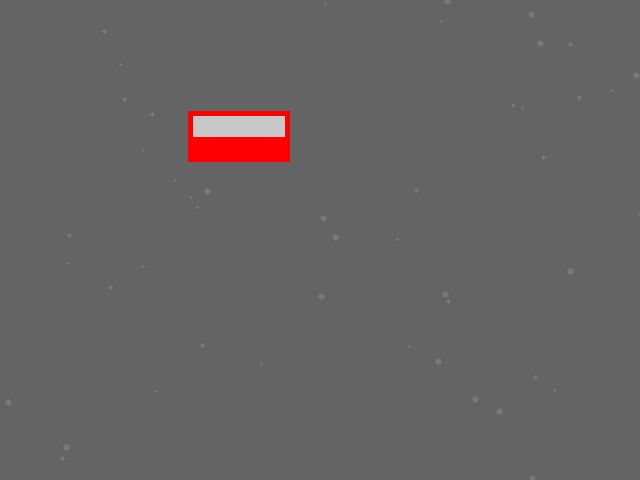car: (188, 111, 289, 161)
